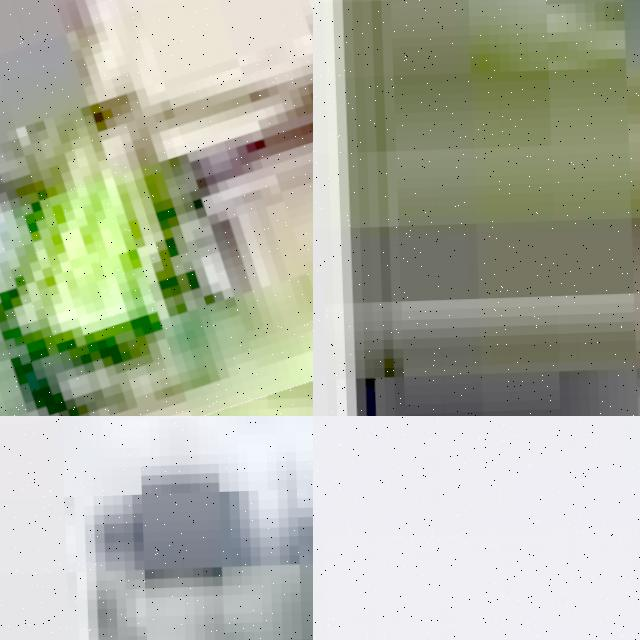drone: (0, 0, 313, 416)
